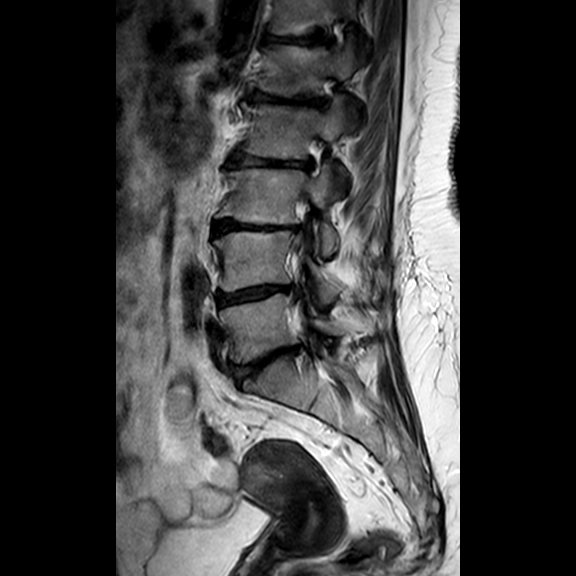LFS0: (291, 124, 335, 182)
